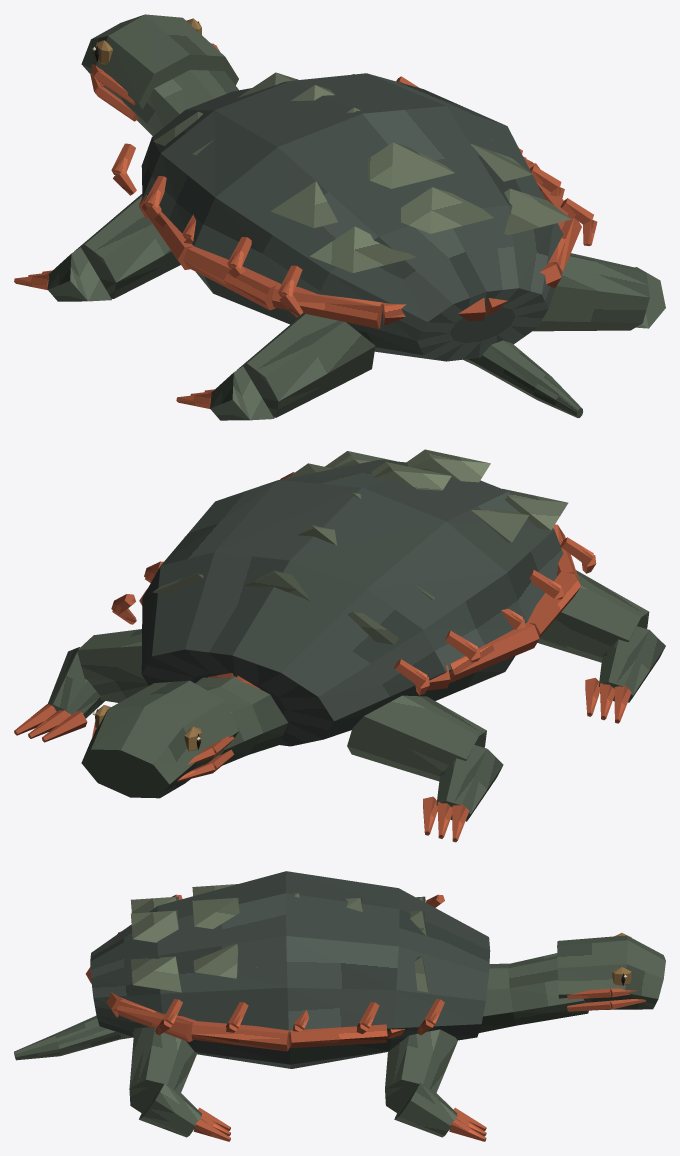
Rendered from mon_turtle_painted_baby.glb.
The picture shows the model from 3 angles, top to bottom: view 1: azimuth 30°, elevation 25°; view 2: azimuth 150°, elevation 25°; view 3: azimuth 270°, elevation 25°; orthographic projection. The views are drawn at different scales.
Visible parts, largest first — view 1: closed_body; view 2: closed_body; view 3: closed_body.
Part boxes in pixels (box(x1,y1,x2,y2)): closed_body: box(14, 14, 665, 420); closed_body: box(14, 449, 665, 842); closed_body: box(14, 871, 665, 1141).
Bounding box in the file's own units: 0.0565 × 0.026 × 0.0913.
1 material, 1 textured.
